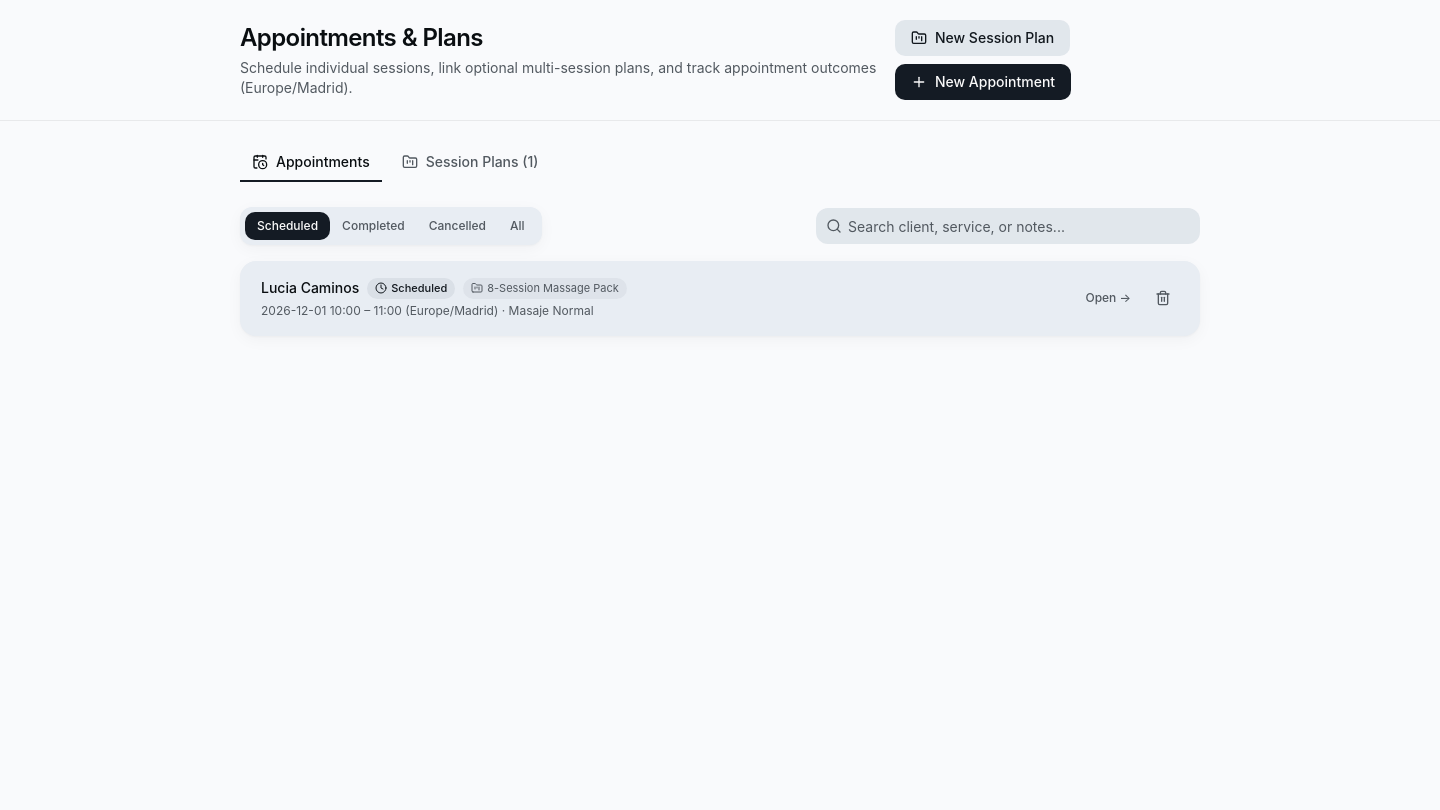
Test: AppointmentsPage deletion flows › confirms and deletes a session-plan appointment
This screenshot has width=1440, height=810.
Later steps or results of the test are not shown.
Click the button named "Delete appointment for Lucia Caminos" at [1163, 298], box x1=1147 y1=282 x2=1179 y2=314
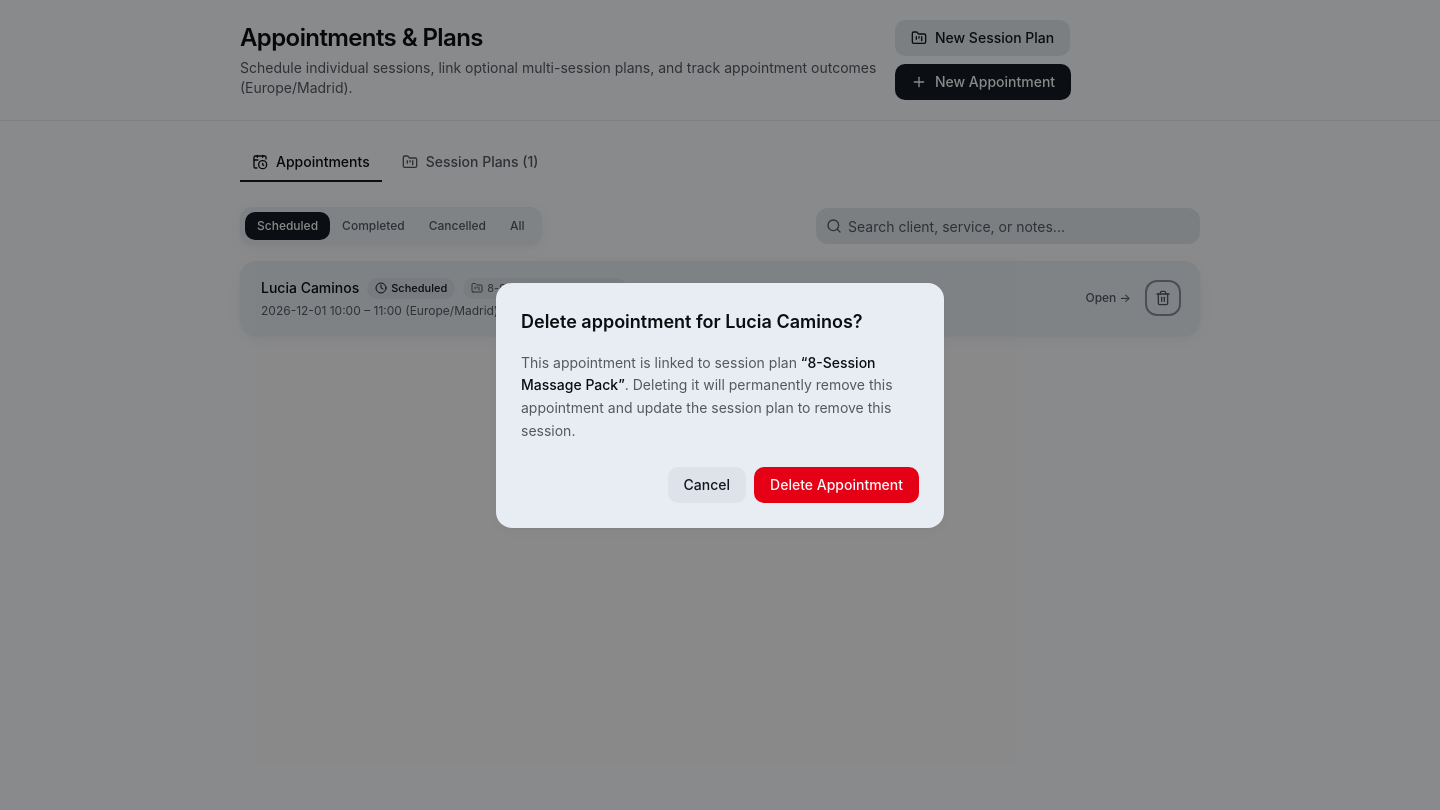
Expected: the heading "Delete appointment for Lucia Caminos?" is shown, x1=521 y1=308 x2=919 y2=336
Expected: the text "update the session plan to remove this session" is shown, x1=521 y1=376 x2=893 y2=439
